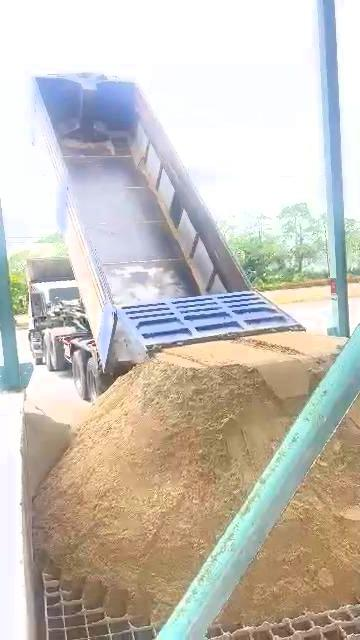sand: (35, 333, 340, 620), (222, 400, 360, 623), (23, 401, 71, 499)
